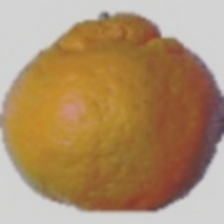tangerine: (35, 0, 176, 192)
